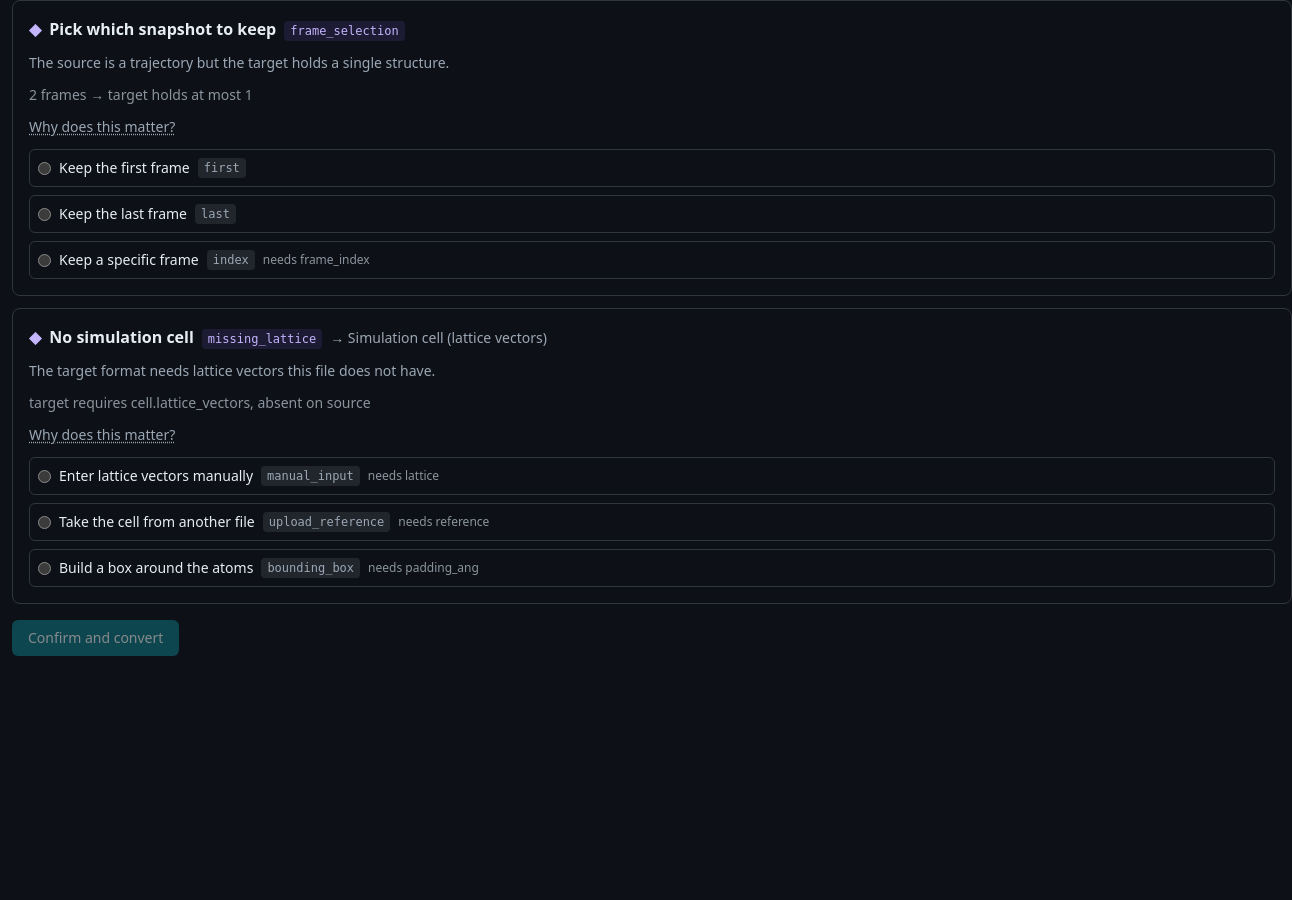
RecoveryWizard › blocks Confirm and names the failure when the preview cannot be fetched (F5)
Click the radio button labelled "Keep the last frame last": (44, 214) [38,208,51,220]
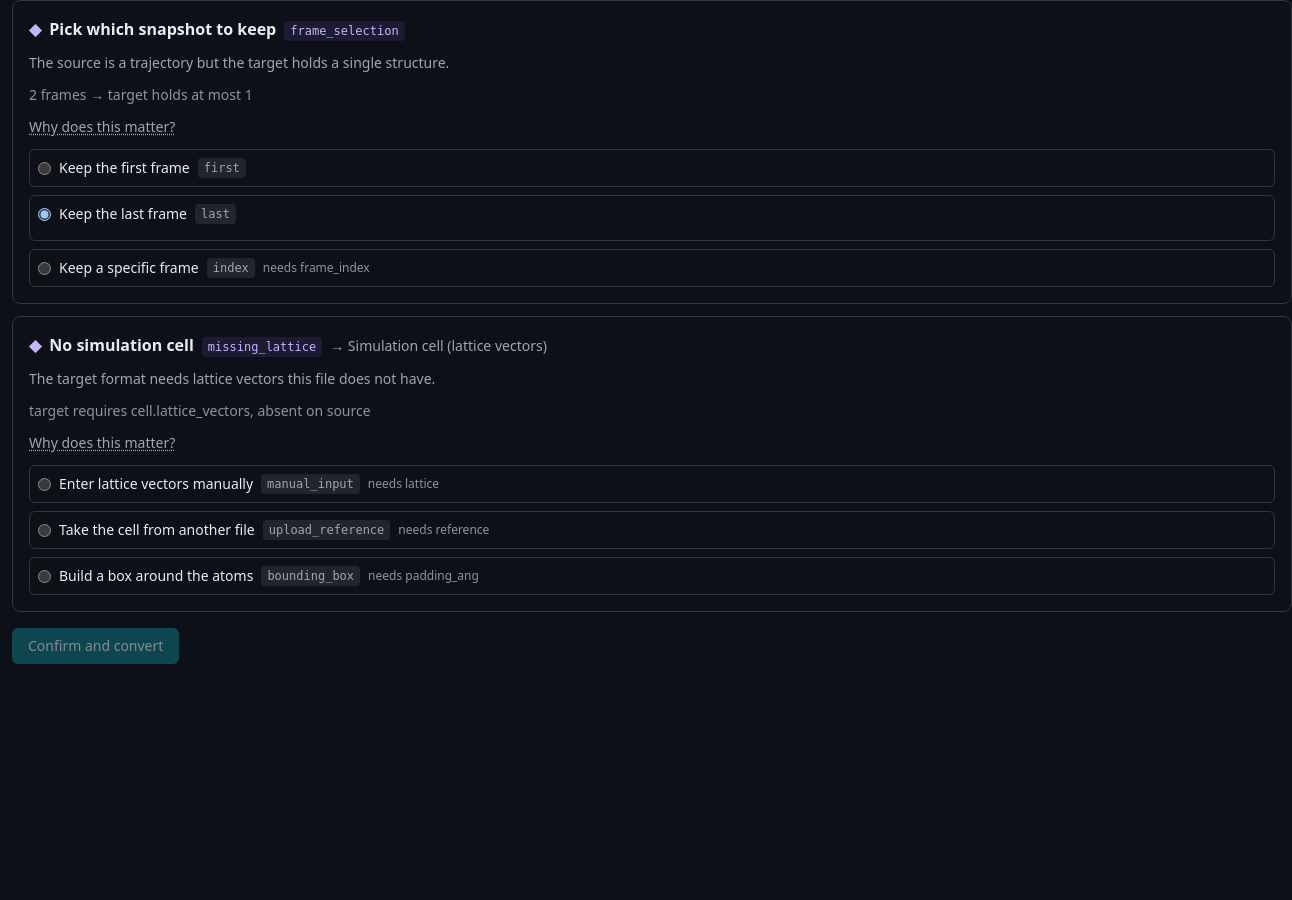
Click the radio button labelled "Build a box around the atoms bounding_box": (44, 576) [38,570,51,582]
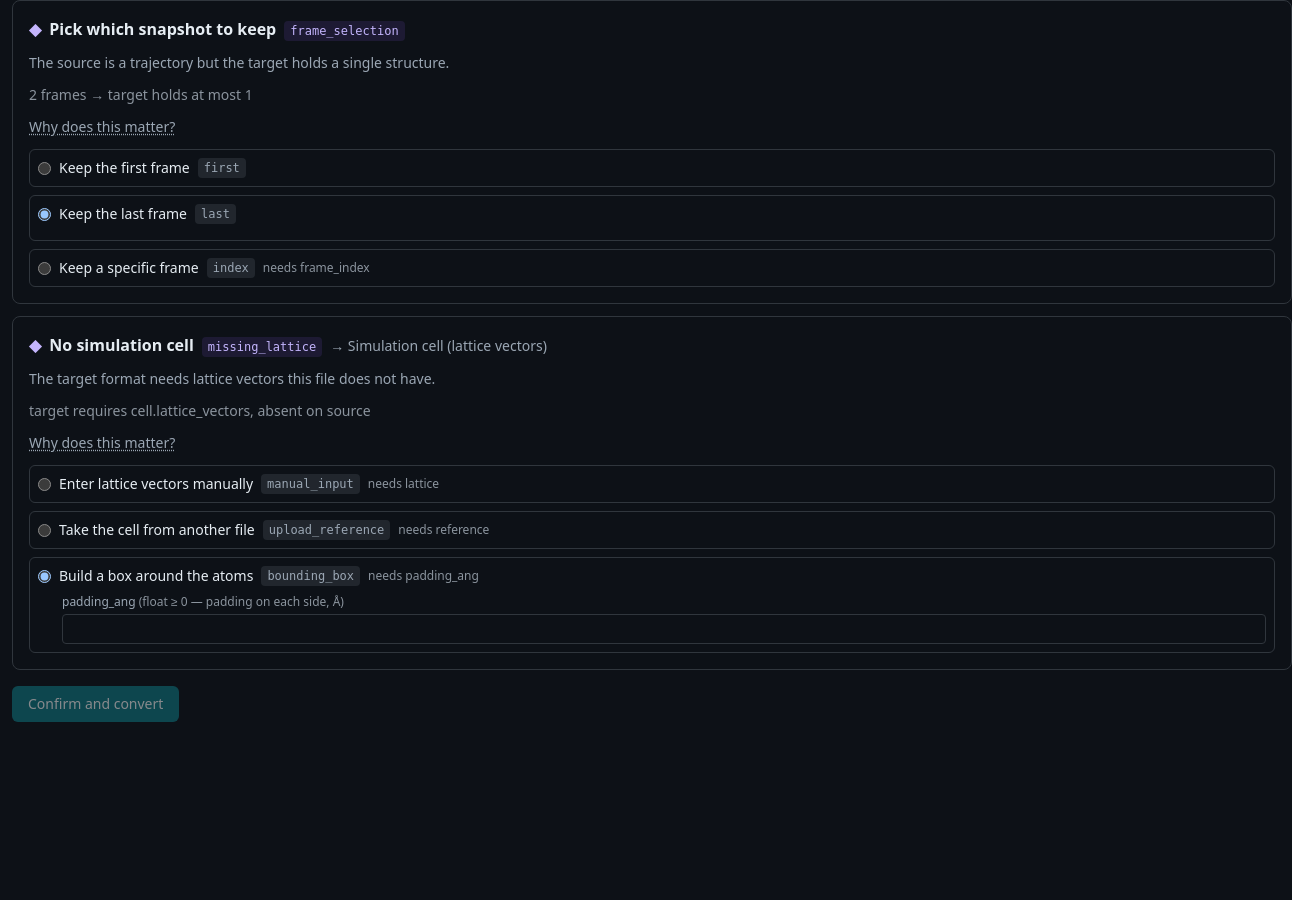
In the number field labelled "padding_ang (float ≥ 0 — padding on each side, Å)": (664, 629) [62,614,1266,644], type "5"
(page scrolled)
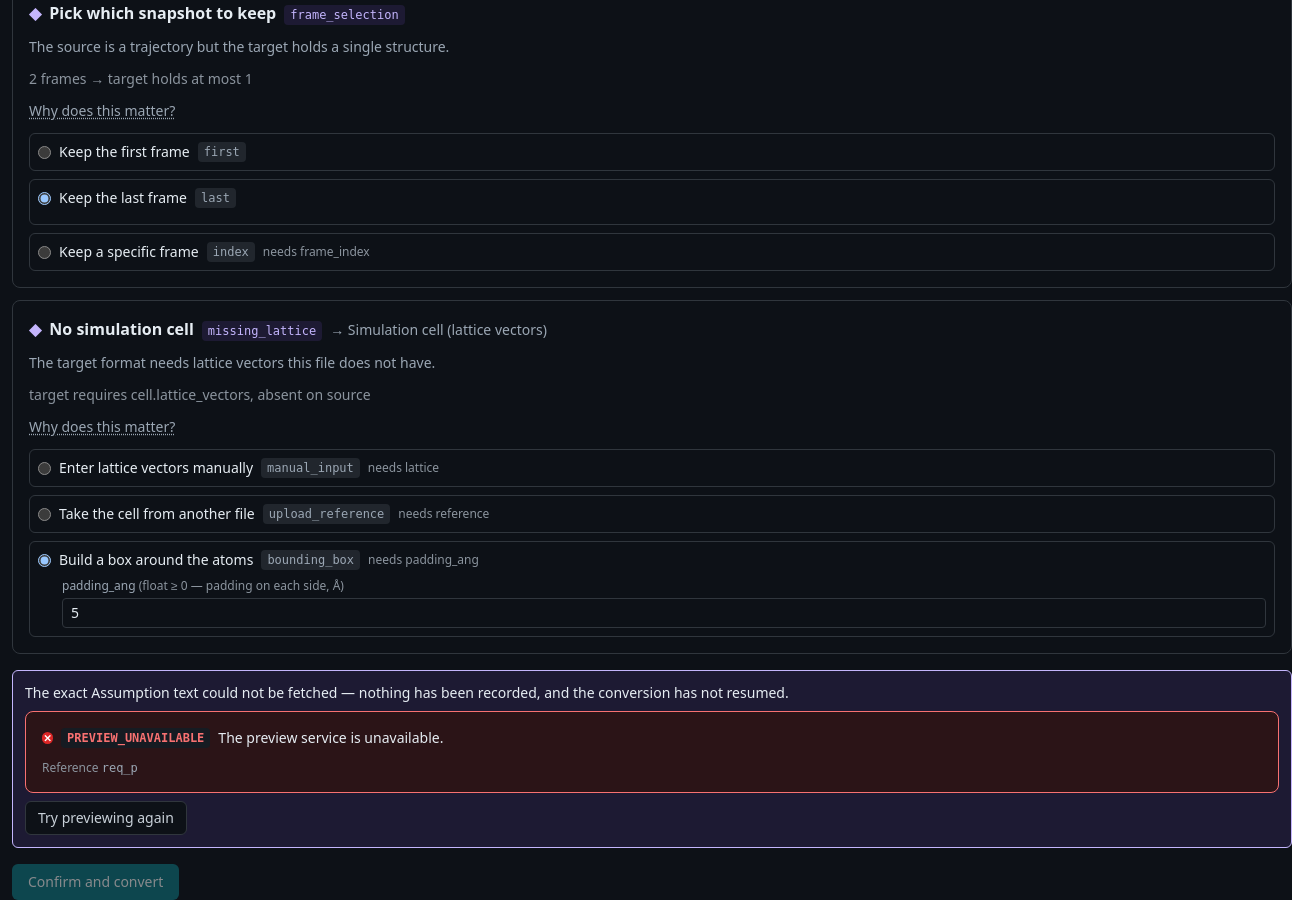
Expected: the button "Confirm and convert" is disabled, [12,864,179,899]
Expected: the message with test id "preview-error" shows "nothing has been recorded", [25,683,789,702]
Expected: the text "PREVIEW_UNAVAILABLE" is shown, [61,728,210,748]
